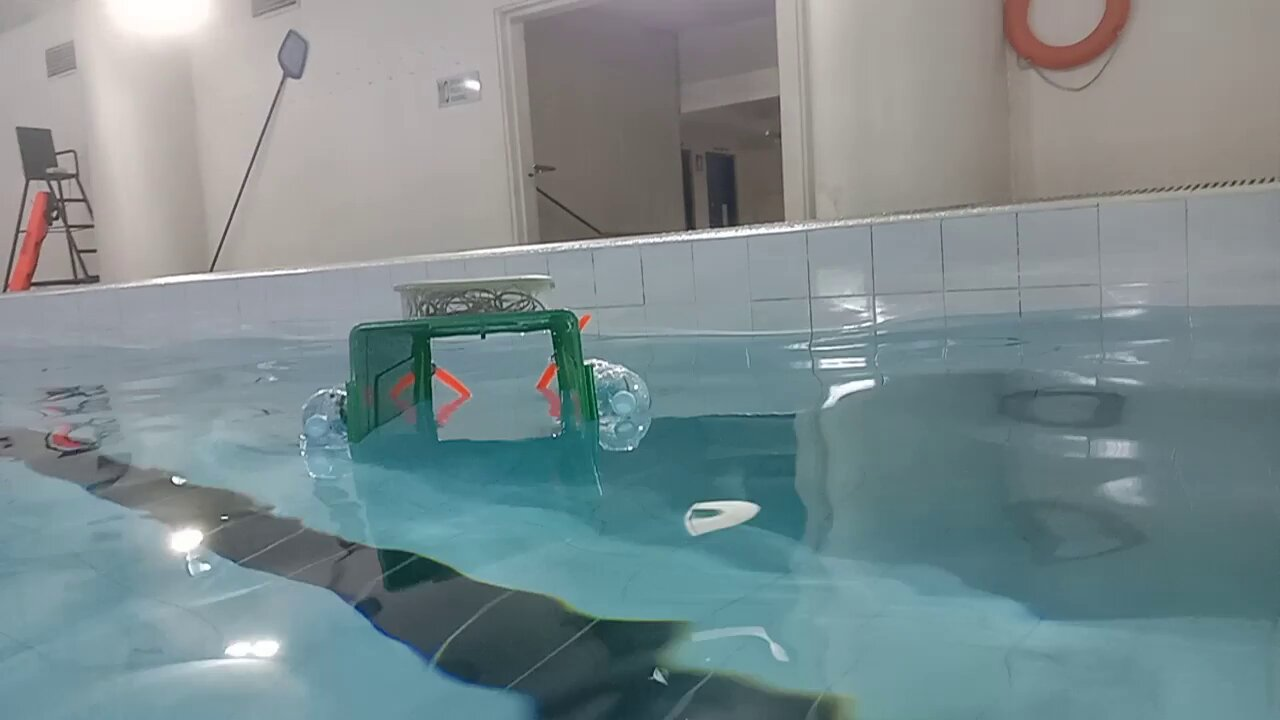drone: (299, 270, 655, 435)
